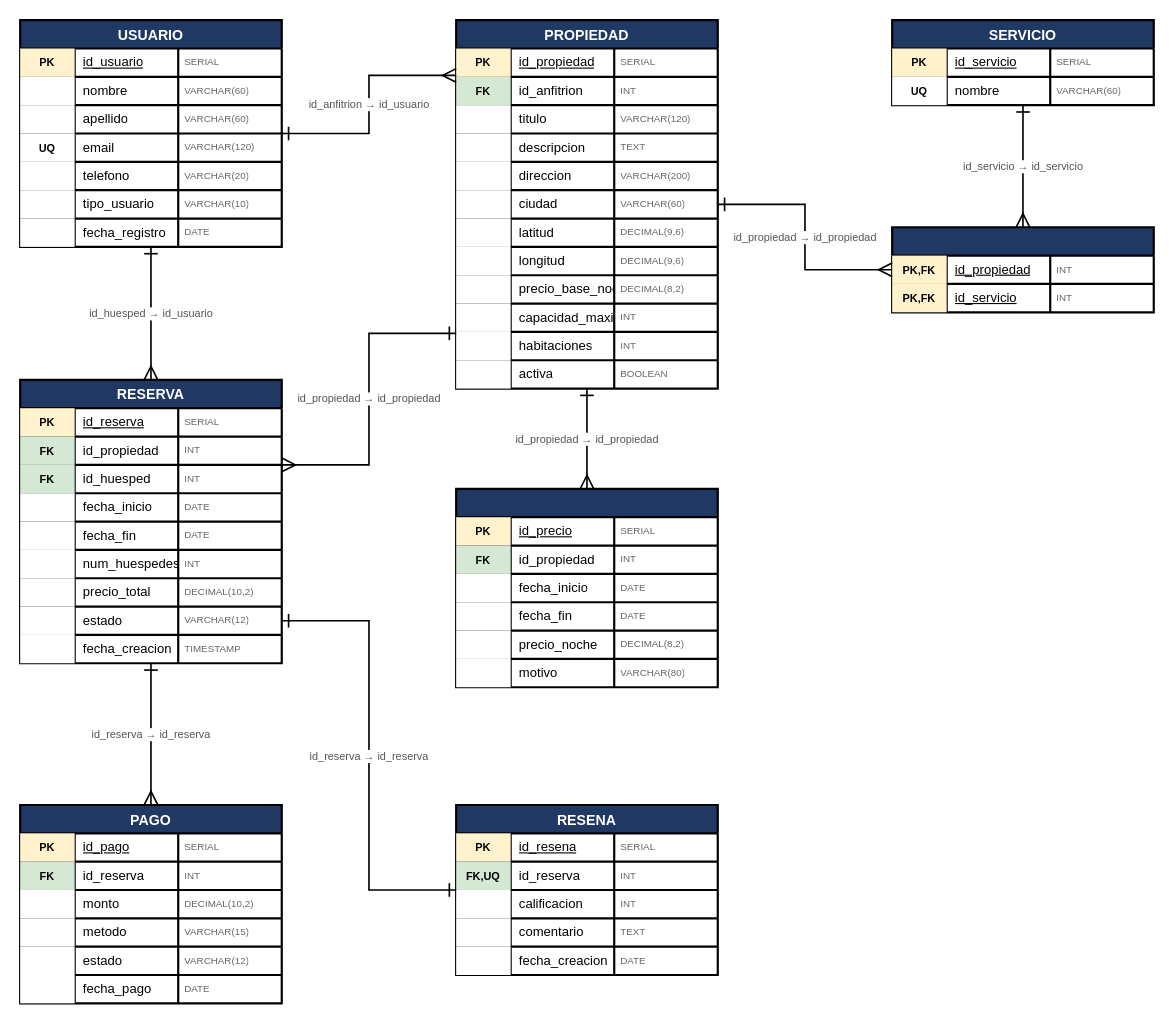
Image size: 1173x1022. Some labels were removed from this diagram. Each missing label, with the box of its shape:
PRECIO_ESPECIAL: (455, 487, 718, 688)
PROPIEDAD_SERVICIO: (891, 226, 1154, 313)
